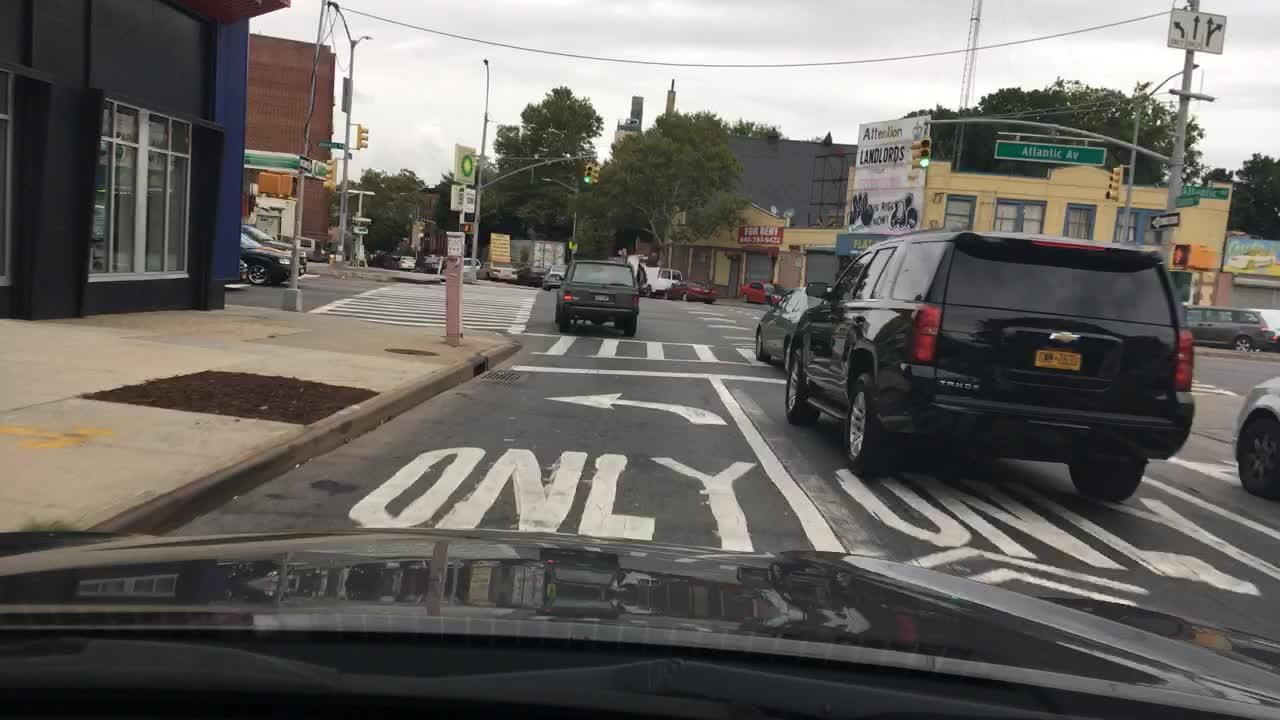chevrolet: (1039, 325, 1094, 350)
